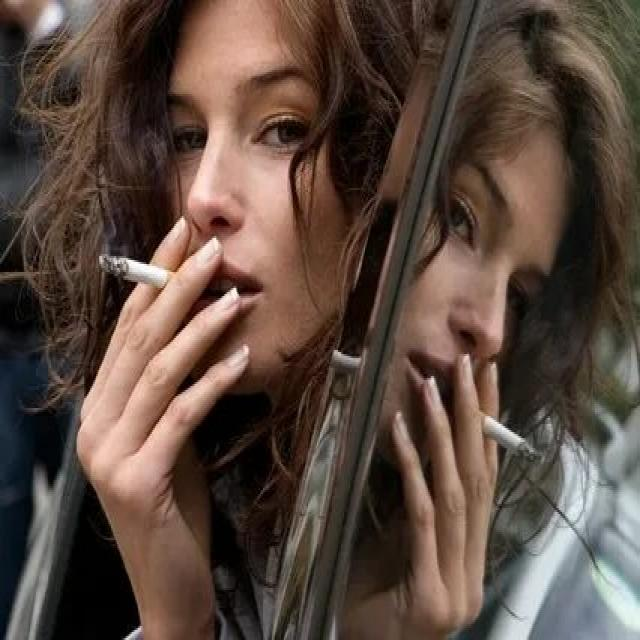cigarette: (91, 242, 190, 302), (466, 402, 536, 470)
